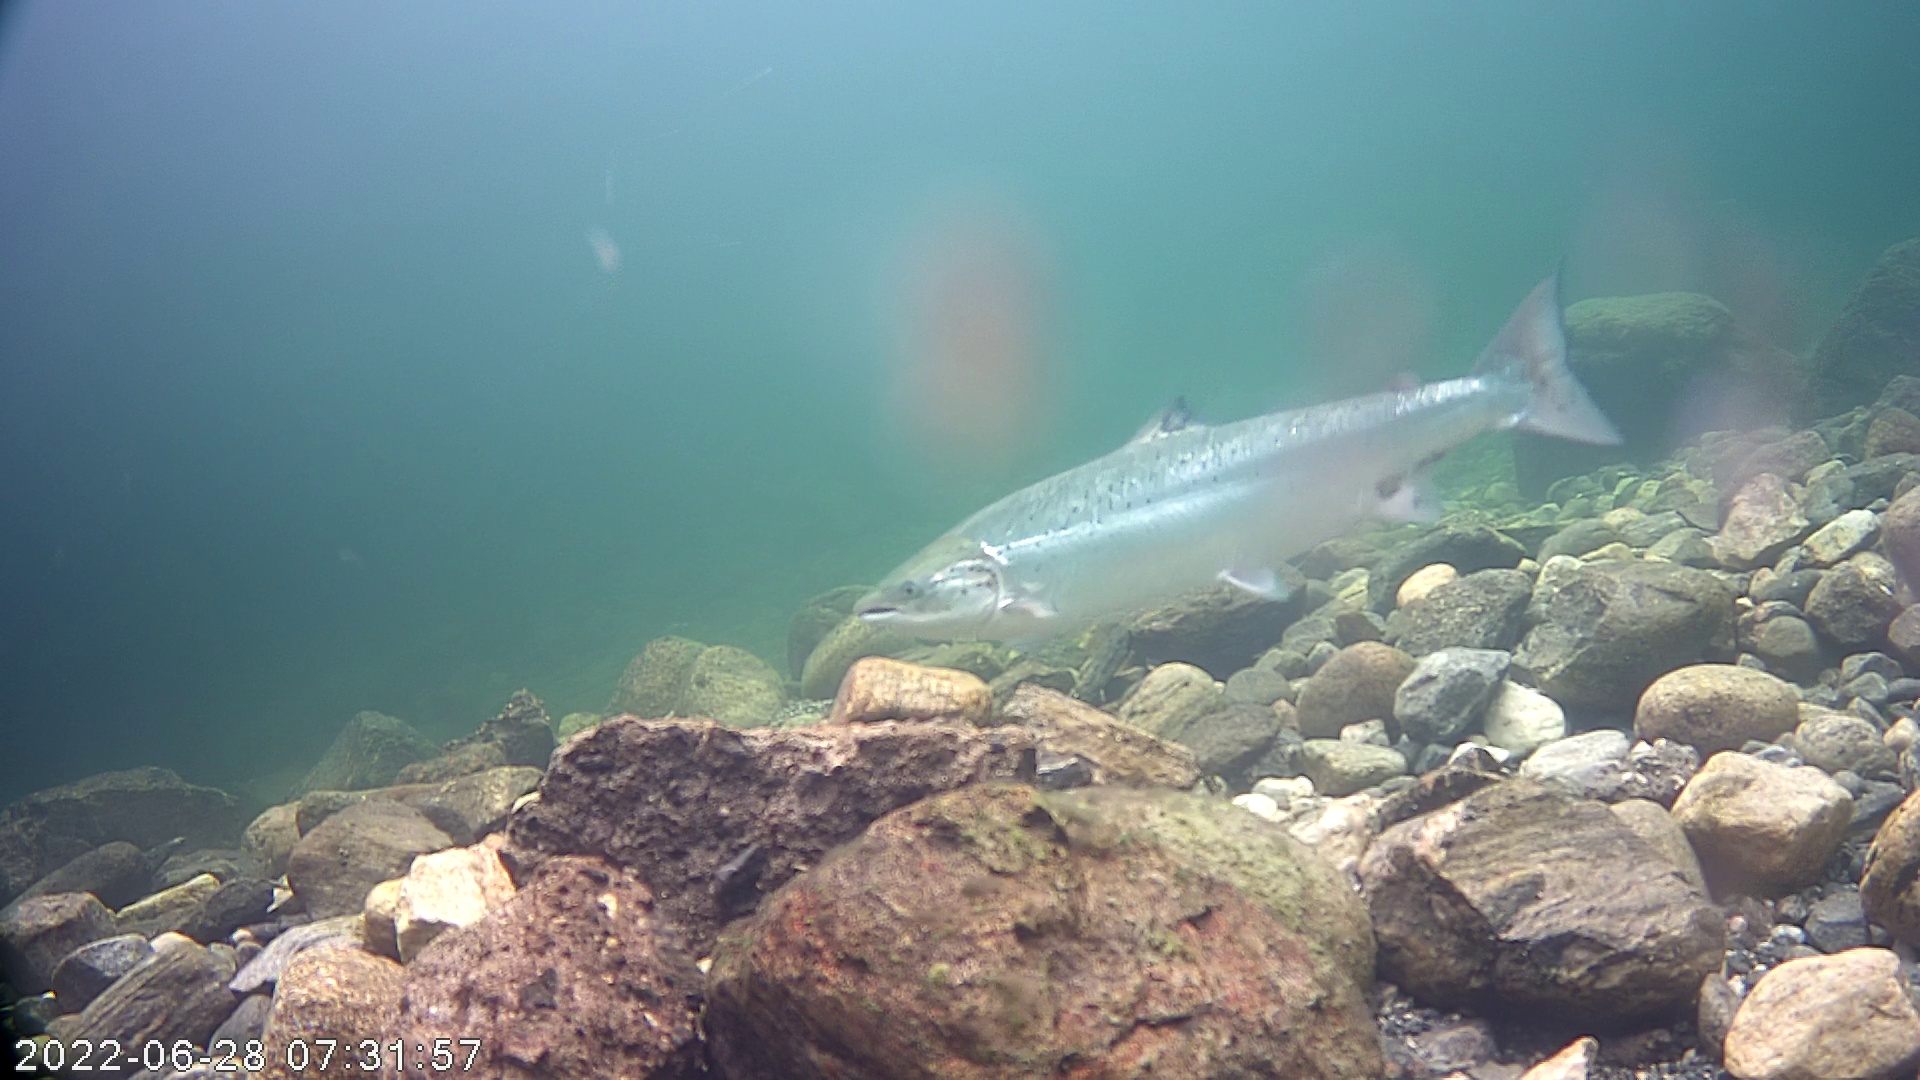salmon: (855, 204, 1644, 663)
